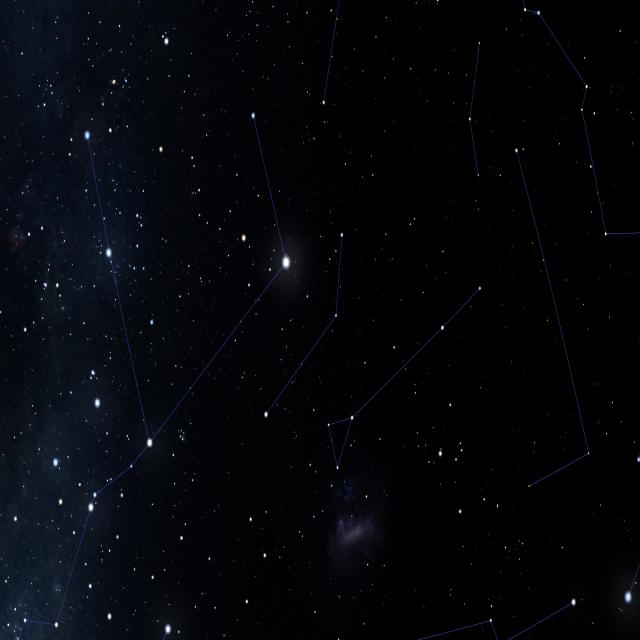Pictor: (250, 204, 352, 430)
